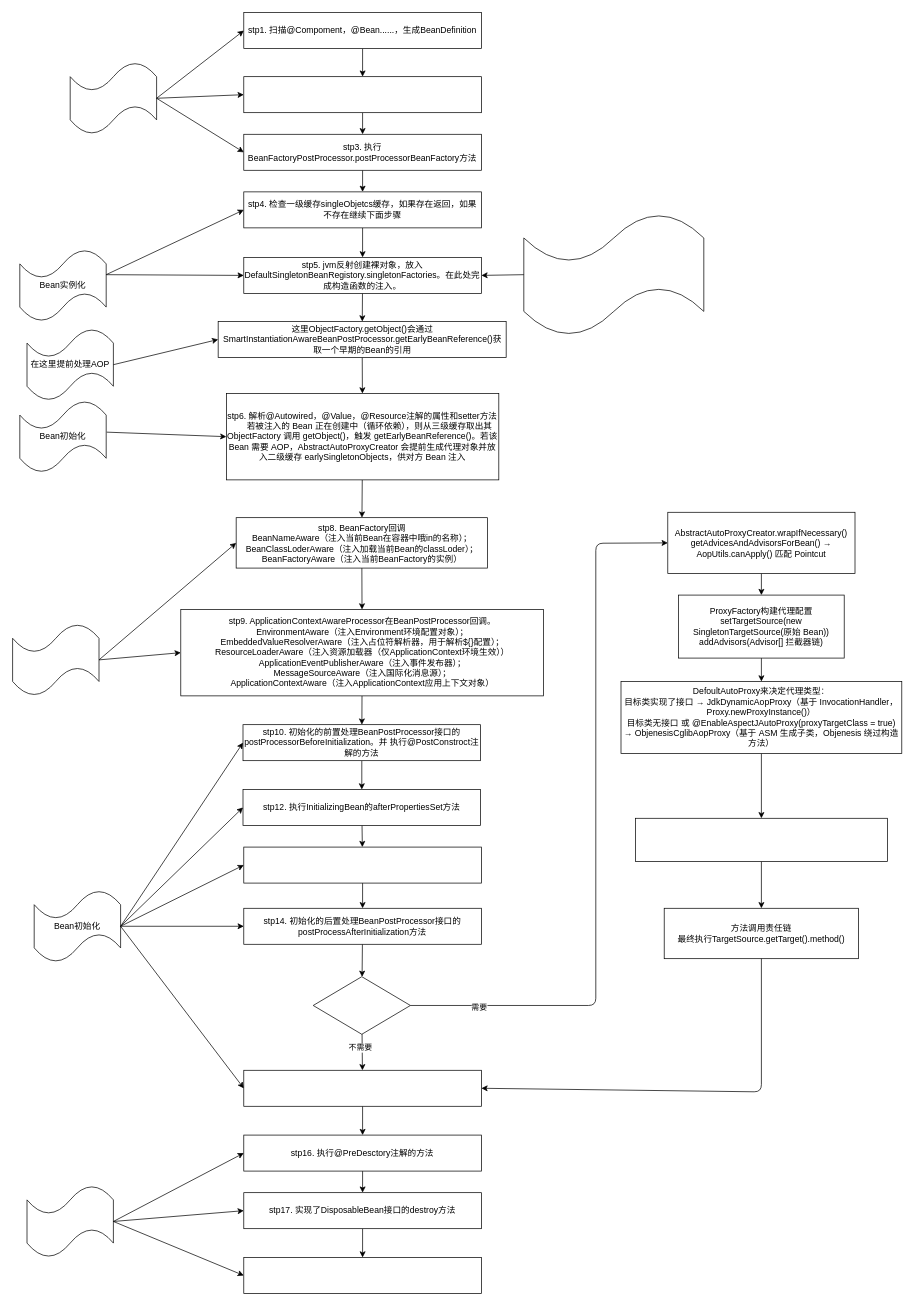
Some shapes in this 914 by 1306 pixel diagram are drawn without their labels. The shapes that lost their labels are listed below. From the top down, each one's centre as x and y in pixels, then its label:
At (113,98): "Bean的注册".
At (362,94): "stp2. 将BeanDefination注册到BeanDefinitionRegistry中".
At (613,274): "参照AbstractAutowiredCapableBeanFactory的doCreateBean方法（602行）".
At (55,659): "BeanAware回调".
At (761,839): "代理对象内部通过 TargetSource 持有原始 Bean Advisor[]: 拦截器责任链".
At (362,864): "stp13. 执行@Bean的initMethod".
At (361,1005): "是否需要AOP".
At (362,1088): "stp15. 存入的 DefaultSingletonBeanRegistory.singletonObjects一级缓存中。同时清理二，三级缓存".
At (69,1221): "Bean销毁".
At (362,1275): "stp18. @Bean的desctoryMethod方法".
